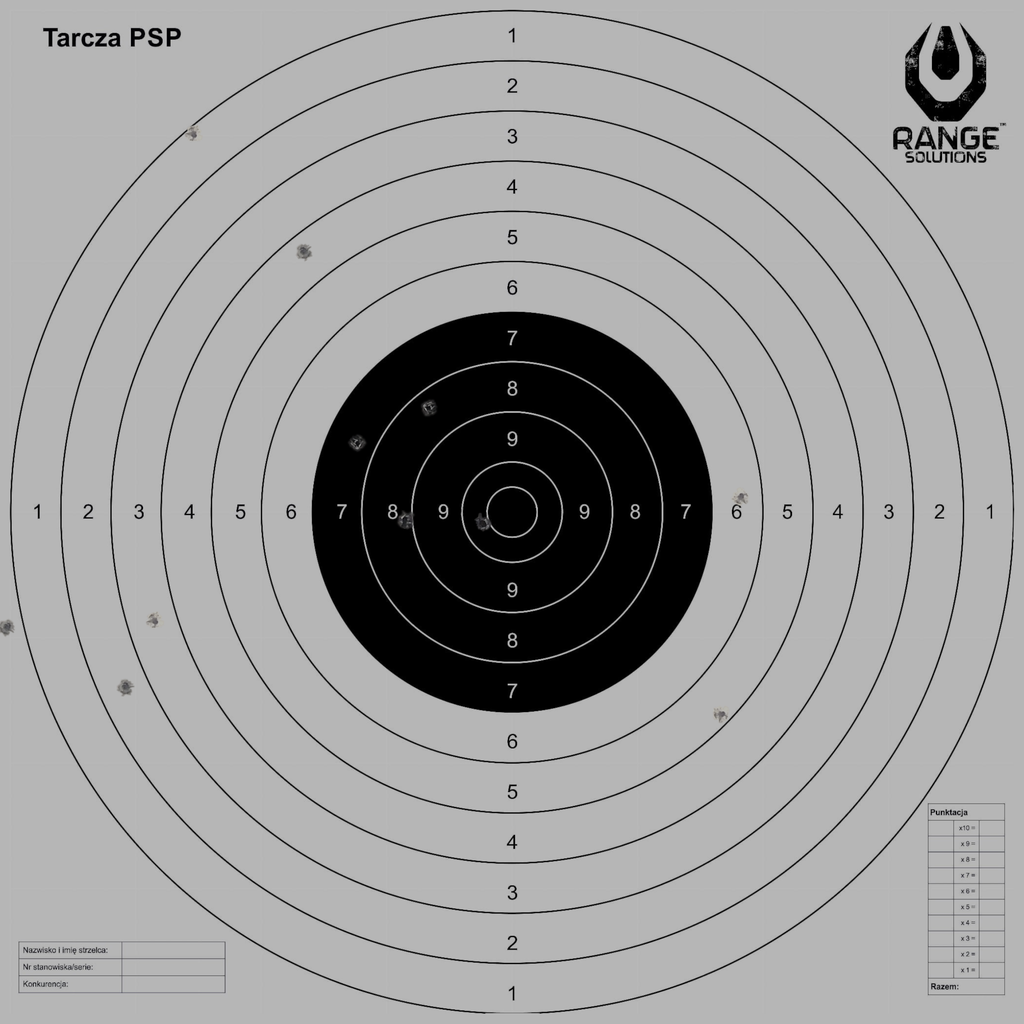0 punktow: (0, 618, 16, 636)
1 punkt: (184, 125, 203, 144)
10 punktow: (474, 514, 492, 533)
2 punkty: (116, 678, 135, 696)
3 punkty: (145, 612, 164, 630)
4 punkty: (295, 242, 313, 261)
5 punktow: (712, 705, 731, 724)
6 punktow: (732, 488, 750, 506)
7 punktow: (348, 435, 367, 453)
8 punktow: (419, 399, 437, 417)
9 punktow: (396, 510, 415, 529)
